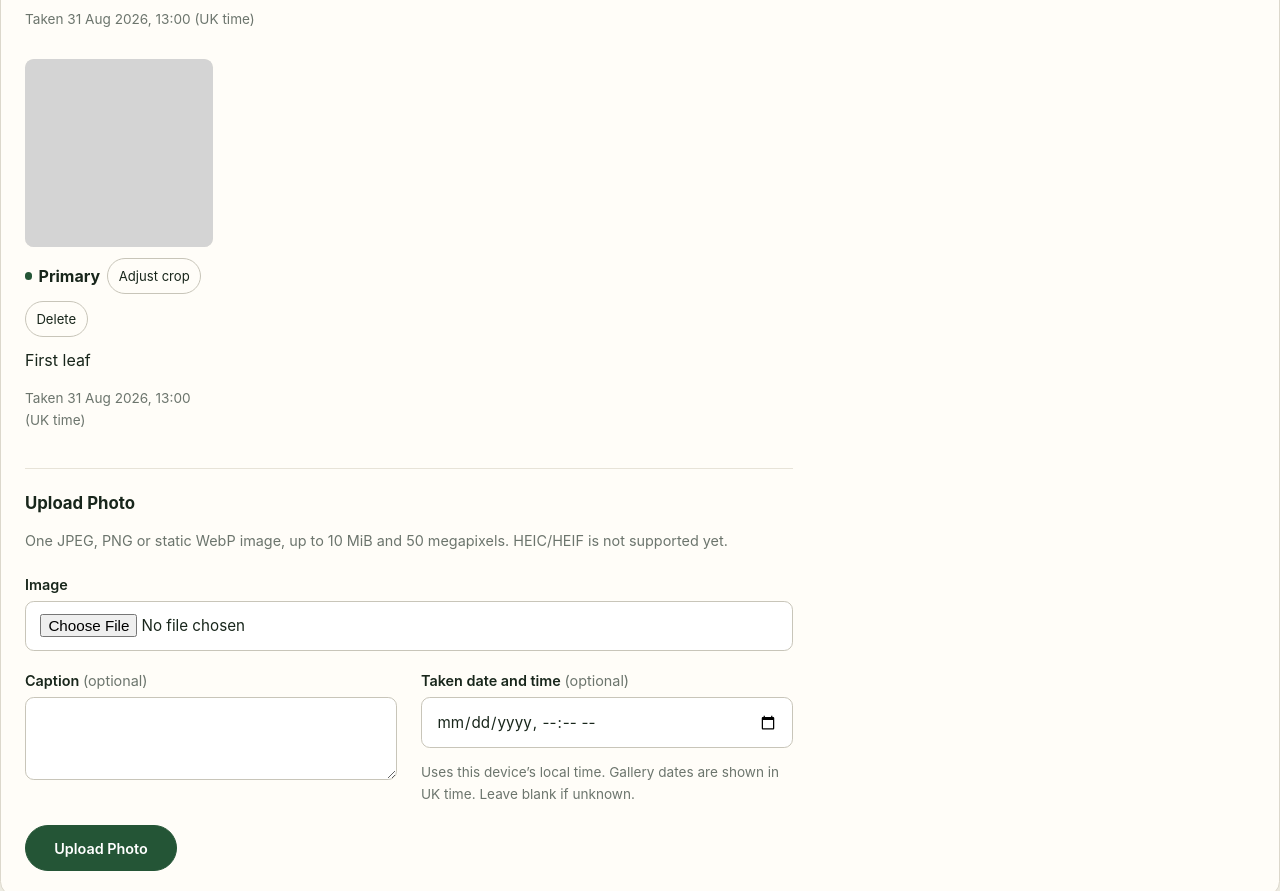
it: deleting the only photo clears the main display and shows the empty state, including cleanup warning
This screenshot has width=1280, height=891.
(page scrolled)
Type "Keep this unsaved caption" into the text box labelled "Caption (optional)". click: (211, 739)
box: [25,697,397,780]
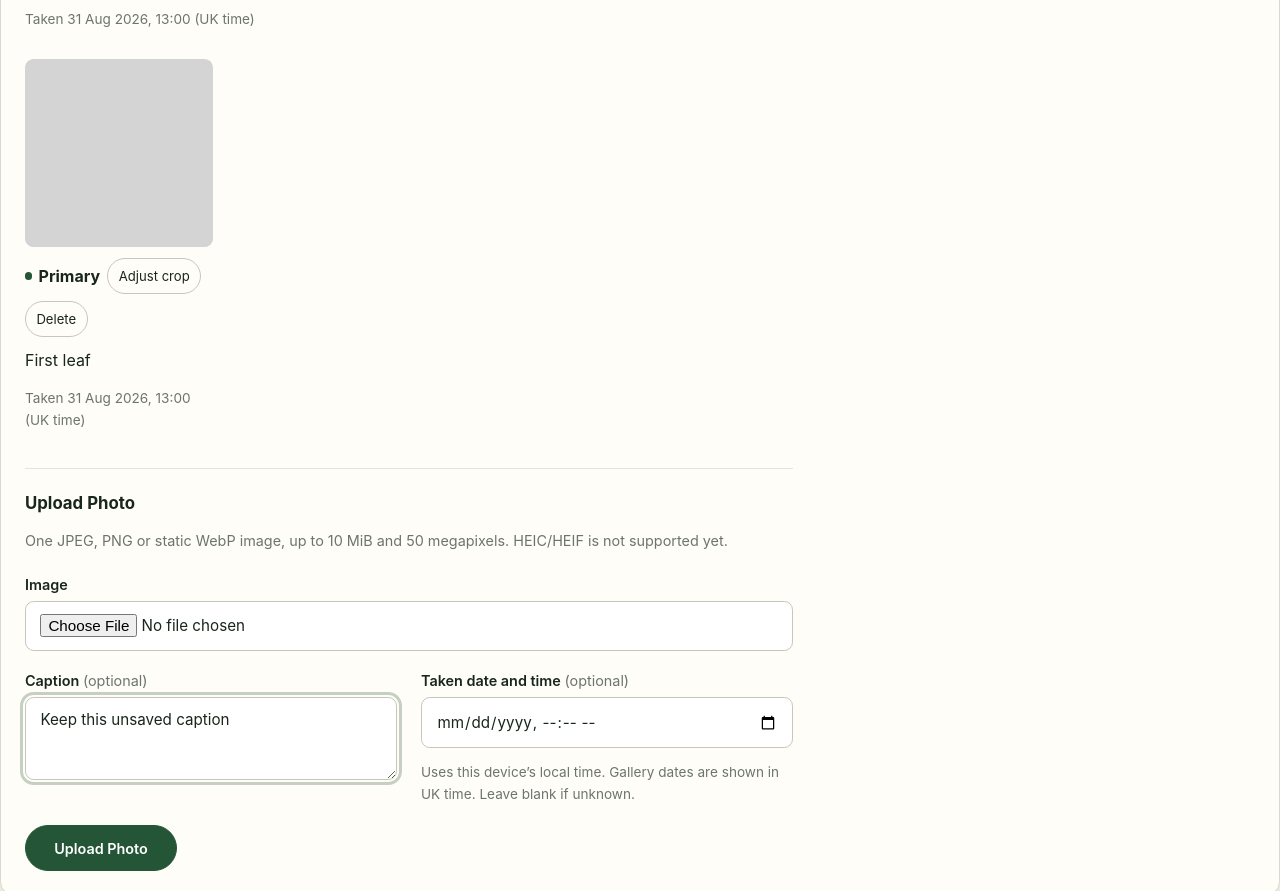
Click the button with aria-label "Delete photo 1". click: (56, 319)
box: [25,301,88,337]
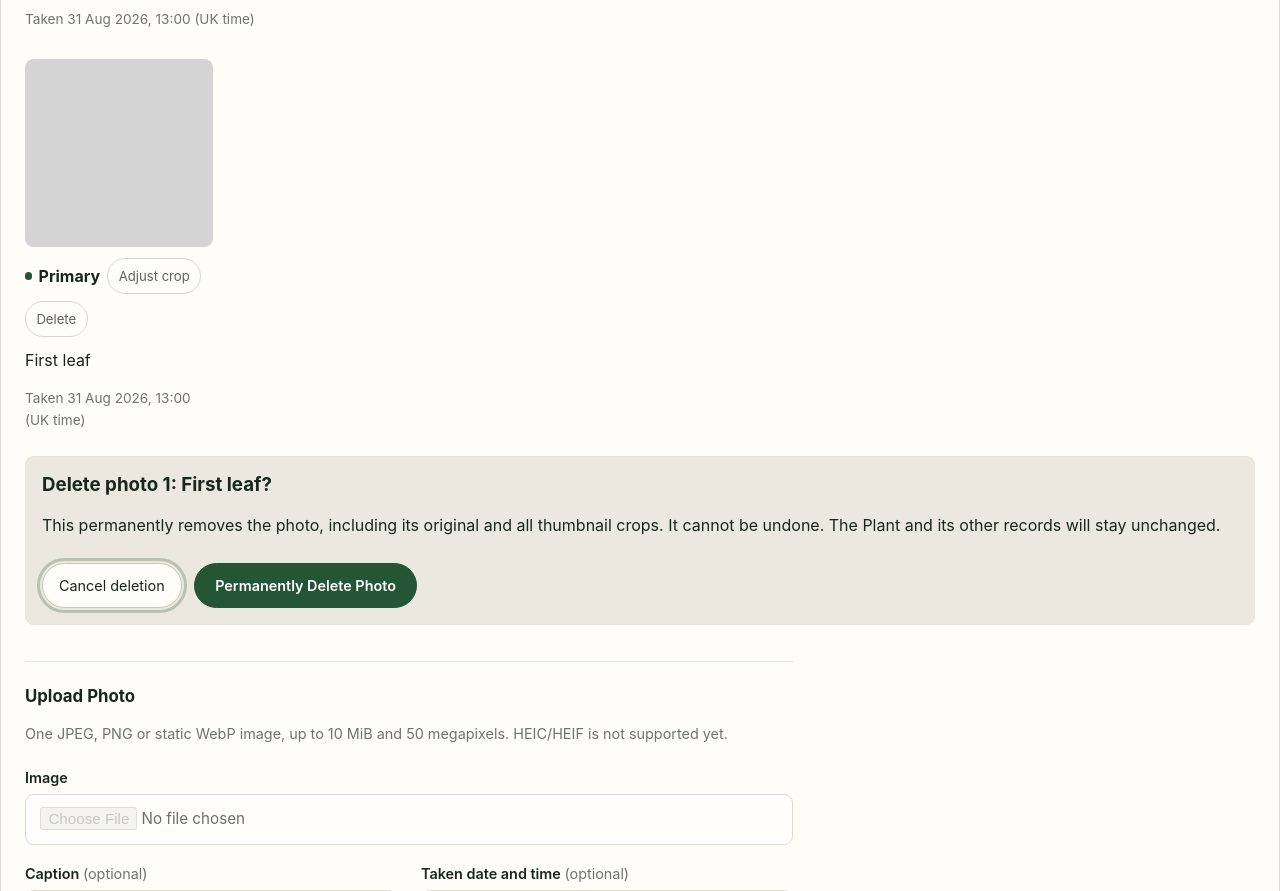
Click the button "Permanently Delete Photo". click: (306, 585)
box: [194,563,417,608]
(page scrolled)
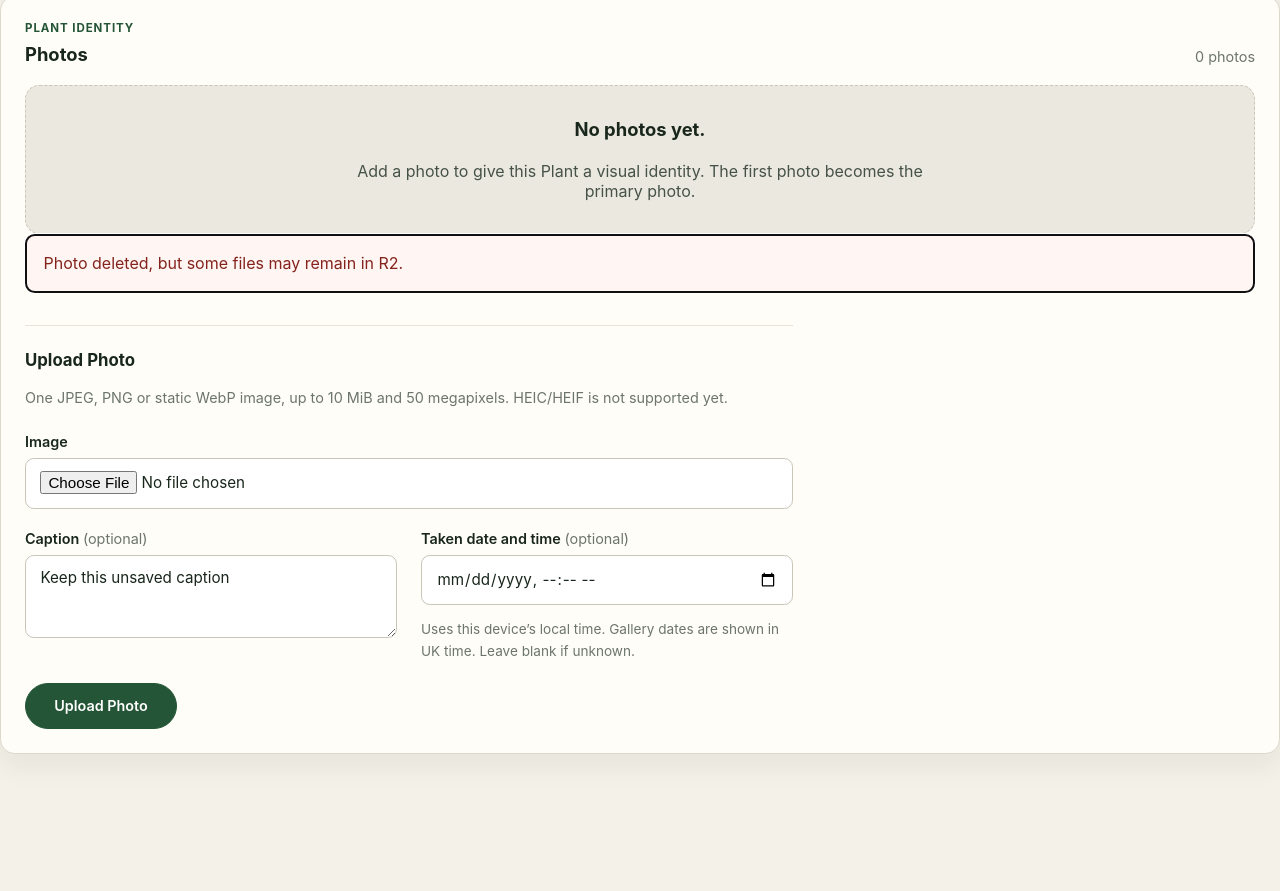
Expected: the picture is gone
Expected: the heading "No photos yet." is shown, [574,118,706,140]
Expected: the message shows "some files may remain", [44,253,403,273]
